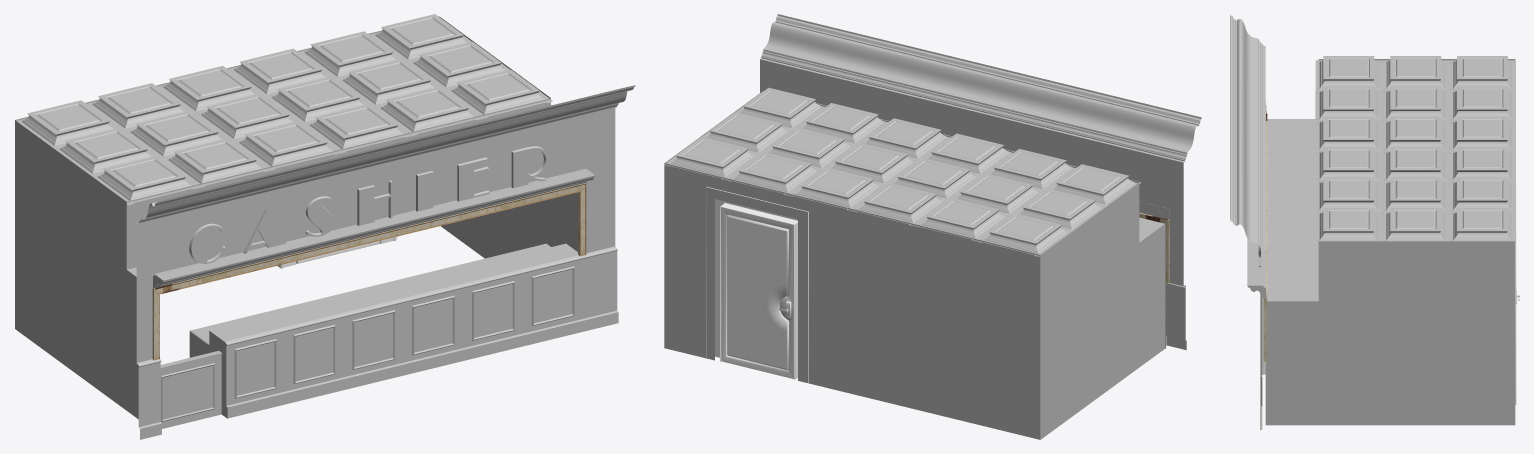
The model's file is Cashier.FBX.
The picture shows the model from 3 angles, left to right: view 1: azimuth 30°, elevation 25°; view 2: azimuth 150°, elevation 25°; view 3: azimuth 270°, elevation 25°; orthographic projection. The views are drawn at different scales.
Parts seen in each view (by area): view 1: Cashier, Cashier_Text, Cashier_HalfDoor; view 2: Cashier, Cashier_Door, Cashier_Frame; view 3: Cashier, Cashier_Frame.
Boxes of the visible parts, x1,y1,x2,y2 form: Cashier: (14, 14, 635, 439); Cashier_Text: (189, 146, 547, 263); Cashier_HalfDoor: (160, 351, 222, 428); Cashier: (664, 14, 1201, 439); Cashier_Door: (721, 207, 794, 379); Cashier_Frame: (706, 186, 808, 383); Cashier: (1230, 14, 1515, 430); Cashier_Frame: (1515, 185, 1516, 404).
Bounding box in the file's own units: 660 × 330 × 393.
